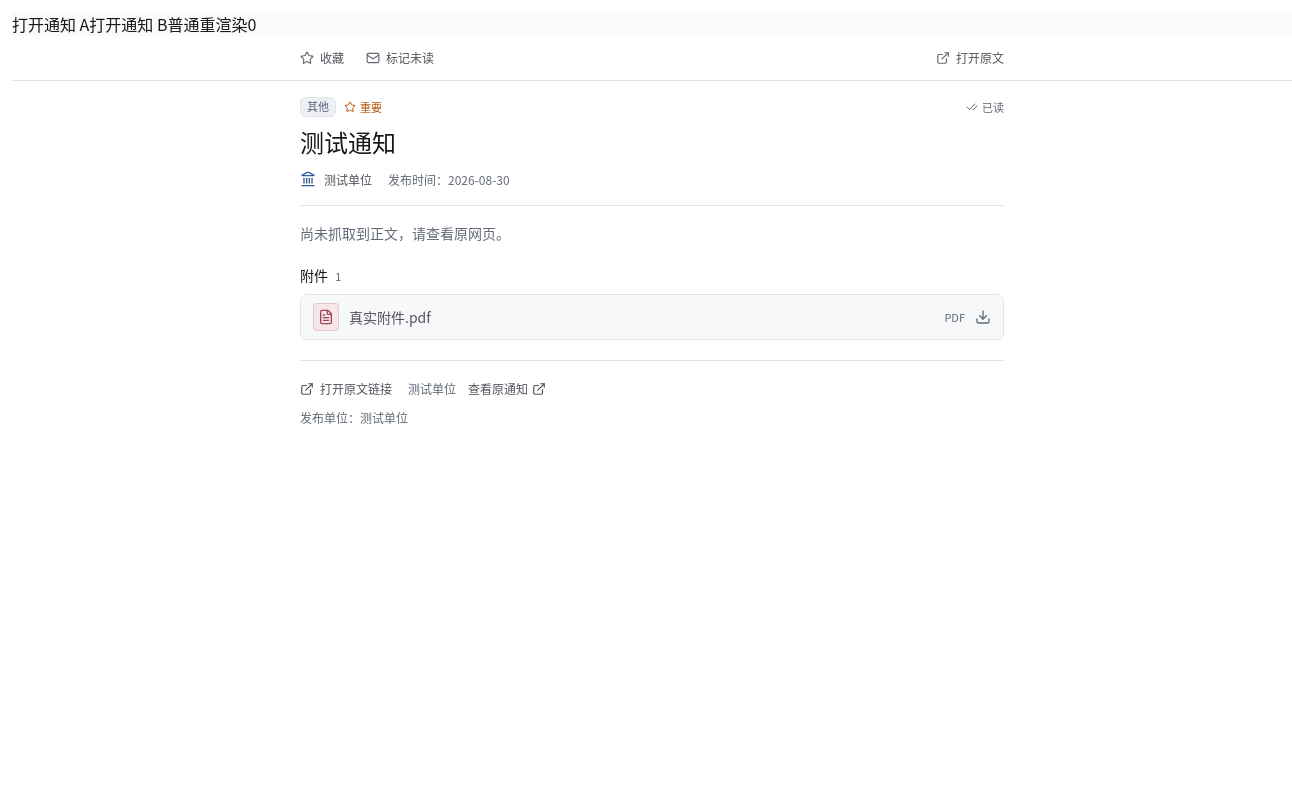
Test: NoticeDetailPage › marks an already-read notice unread with one click without auto-reading it again
Click the button with aria-label "标记为未读". click: click(400, 58)
box: [358,42,442,74]
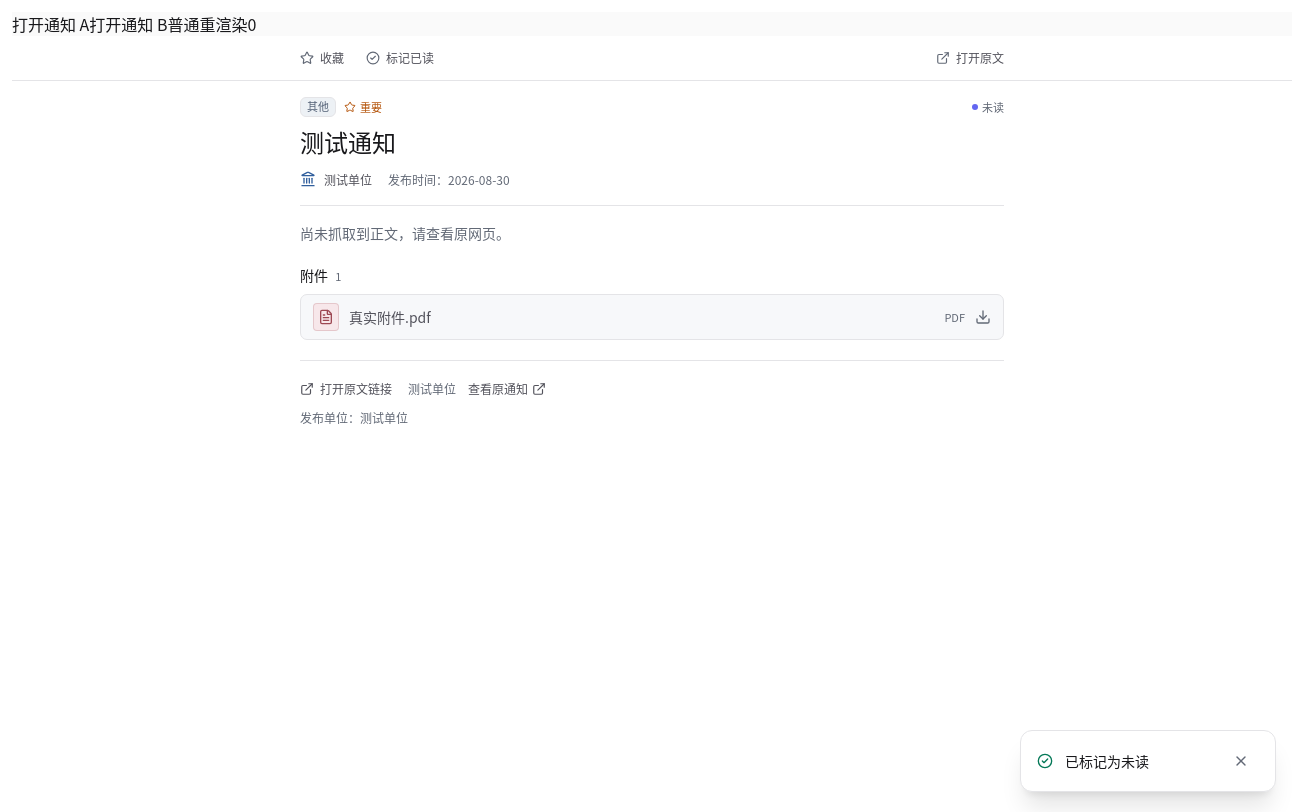
Expected: the button with aria-label "标记为已读" is shown, [358,42,442,74]
